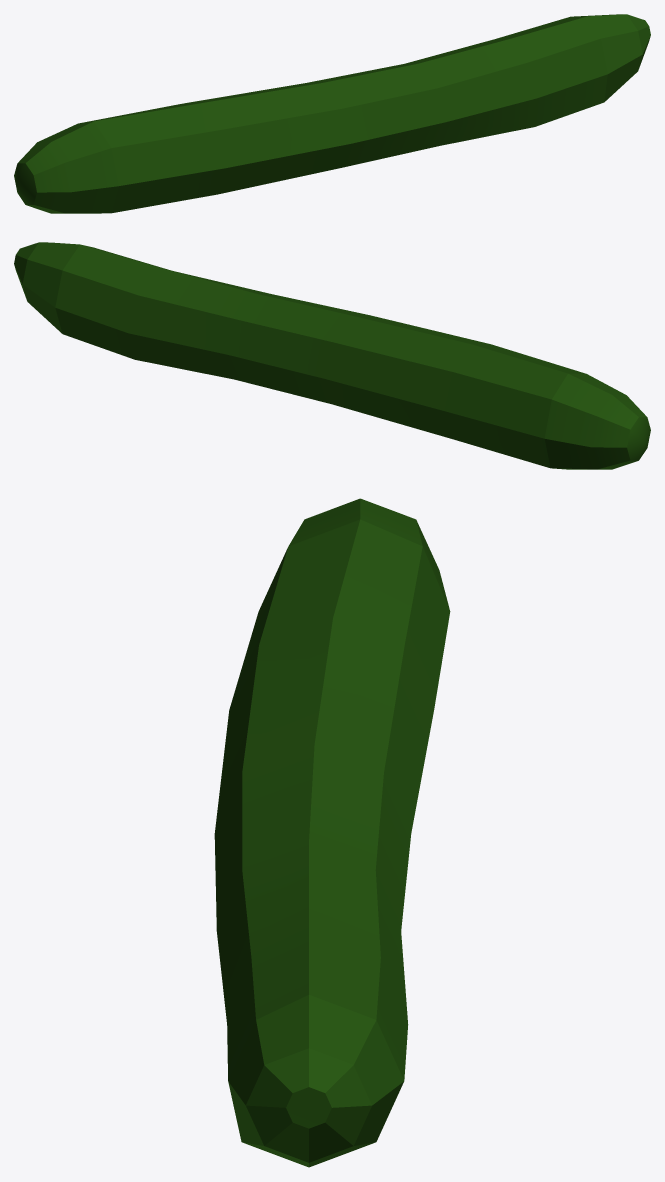
The model's file is cucumber.fbx.
3 renders of one model, top to bottom at view 1: azimuth 30°, elevation 25°; view 2: azimuth 150°, elevation 25°; view 3: azimuth 270°, elevation 25°, orthographic. The views are drawn at different scales.
Visible parts, largest first — view 1: Cucumber; view 2: Cucumber; view 3: Cucumber.
Boxes of the visible parts, bbox=[...] form: Cucumber: bbox=[14, 14, 650, 213]; Cucumber: bbox=[14, 242, 650, 469]; Cucumber: bbox=[214, 498, 450, 1167].
Size of the model in its own units: 10.57 by 1.59 by 1.75.
